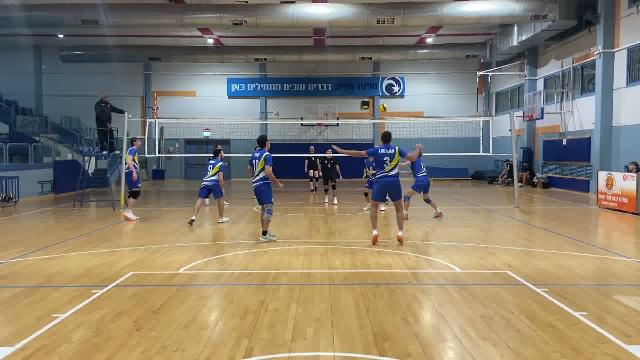ball: (379, 101, 389, 117)
